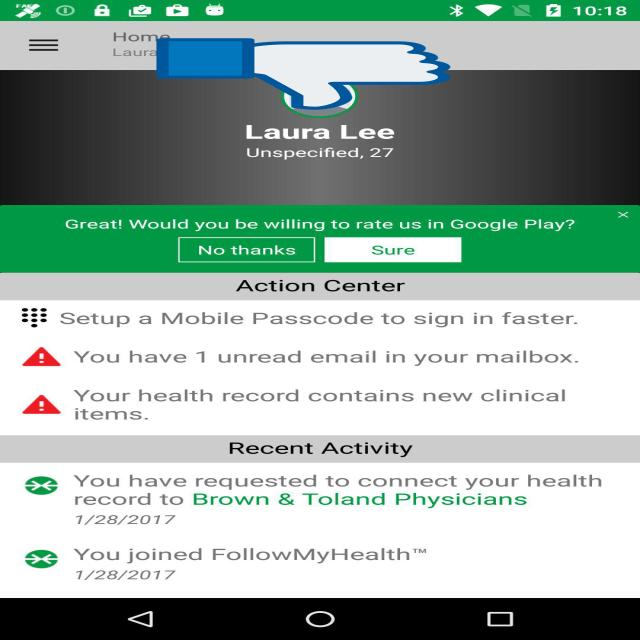obstruction: (157, 37, 450, 111)
